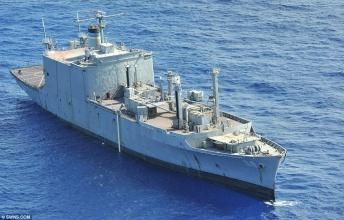warship: (8, 6, 286, 192)
